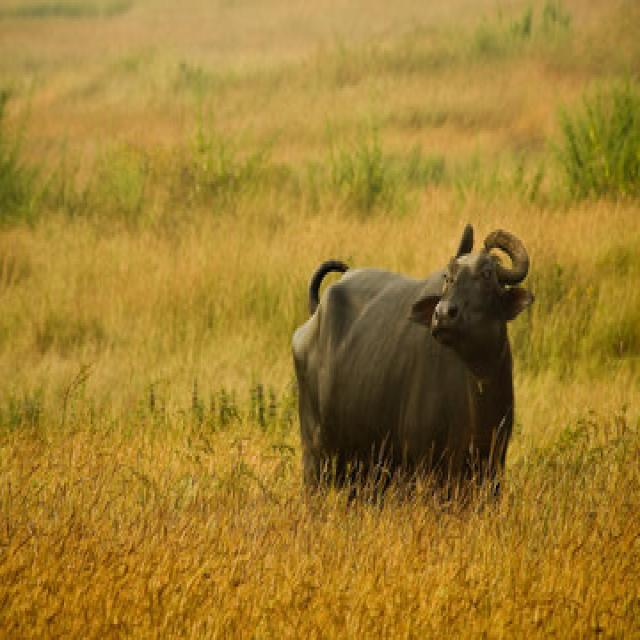Buffalo: (288, 219, 535, 509)
